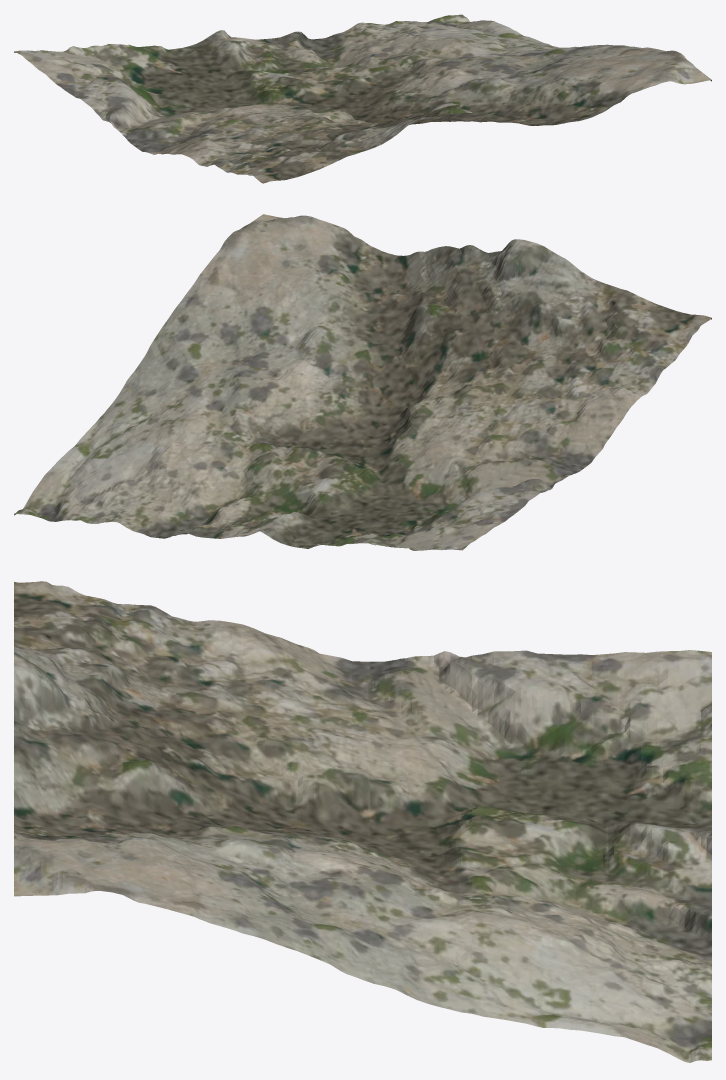
3 renders of one model, top to bottom at view 1: azimuth 30°, elevation 25°; view 2: azimuth 150°, elevation 25°; view 3: azimuth 270°, elevation 25°, orthographic. The views are drawn at different scales.
Size of the model in its own units: 250 by 84.56 by 241.
Materials: 1 (1 with a texture image).
